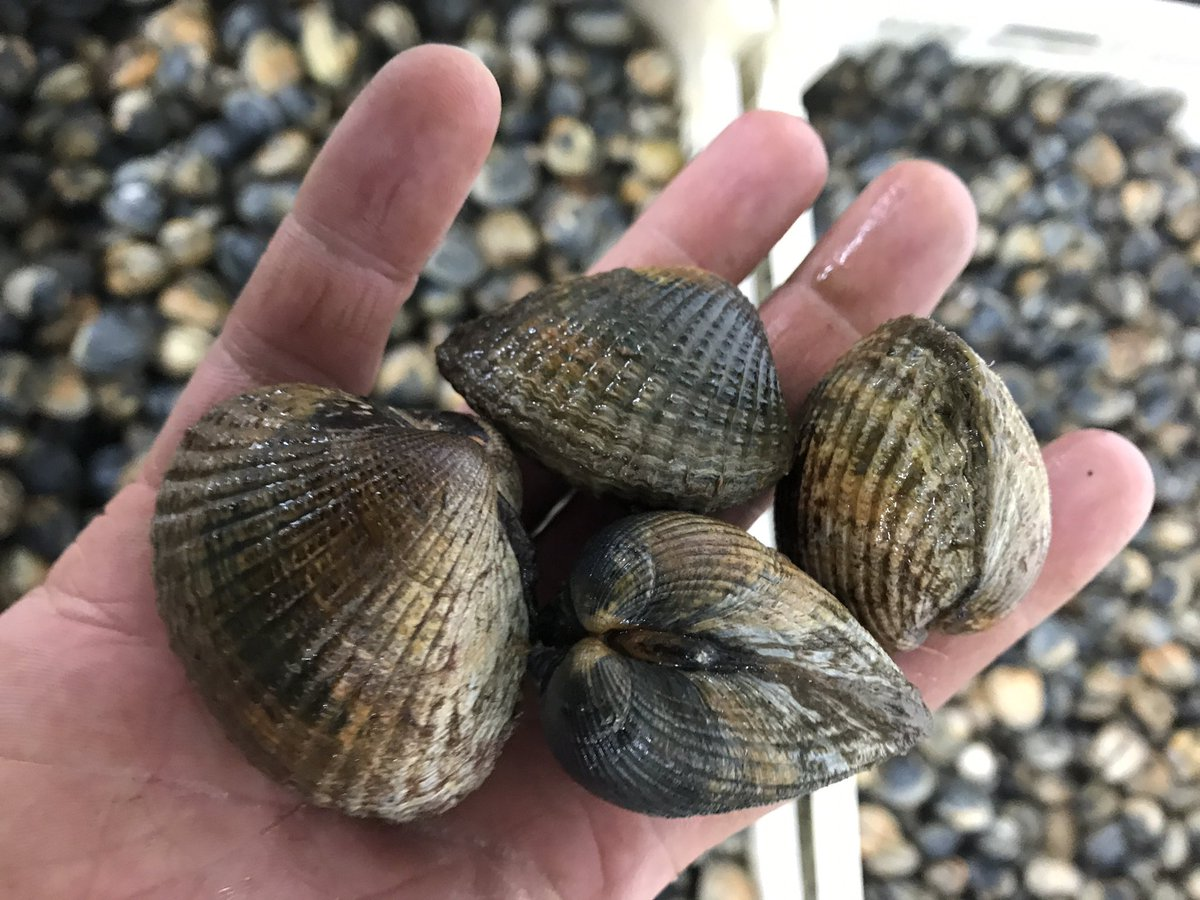cockle: (153, 379, 530, 824), (543, 511, 936, 819), (777, 315, 1055, 650), (427, 261, 791, 507)
